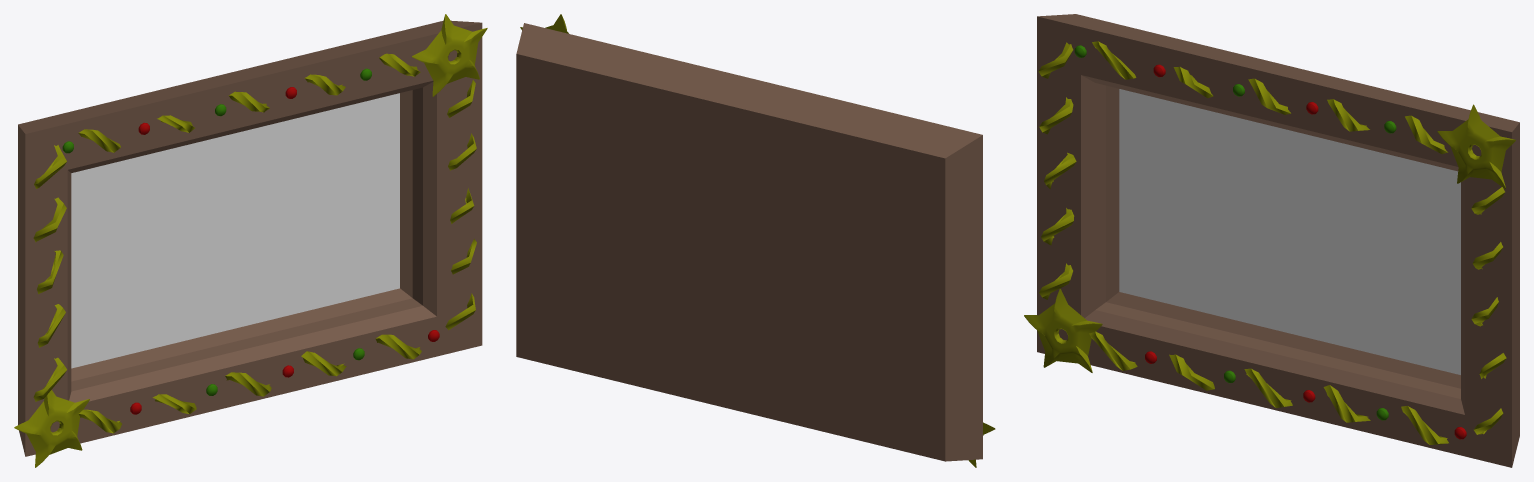
File: Fancy_Frame_finished.fbx
3 views of the same model, side by side, from view 1: azimuth 30°, elevation 25°; view 2: azimuth 150°, elevation 25°; view 3: azimuth 330°, elevation 25° (orthographic). The views are drawn at different scales.
Parts seen in each view (by area): view 1: pCube1, pGear2, pGear1, polySurface7, polySurface5, polySurface3, polySurface2; view 2: pCube1; view 3: pCube1, pGear2, pGear1, polySurface7, polySurface3, polySurface5, polySurface2.
Boxes of the visible parts, x1,y1,x2,y2 form: pCube1: (18,20,482,456); pGear2: (412,14,487,96); pGear1: (14,390,89,467); polySurface7: (79,334,421,433); polySurface5: (33,145,66,401); polySurface3: (78,53,420,152); polySurface2: (445,80,476,330); pCube1: (516,23,982,461); pCube1: (1037,14,1519,467); pGear2: (1437,104,1515,188); pGear1: (1024,289,1102,372); polySurface7: (1089,331,1448,444); polySurface3: (1092,41,1447,154); polySurface5: (1038,42,1076,299); polySurface2: (1471,187,1506,434).
Size of the model in its own units: 6.05 by 4.31 by 0.7373.
